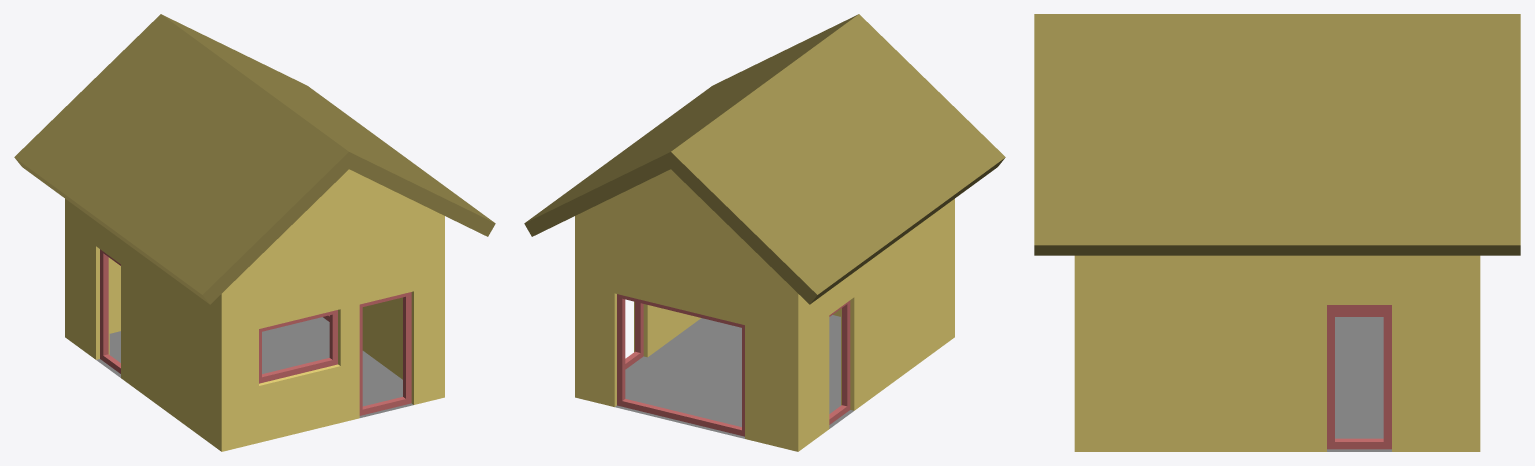
File: result.glb
3 renders of one model, left to right at view 1: azimuth 30°, elevation 25°; view 2: azimuth 150°, elevation 25°; view 3: azimuth 270°, elevation 25°, orthographic. The views are drawn at different scales.
Visible parts, largest first — view 1: 236d482a-bdd8-4c83-88a8-8577ee374dab__undefined, 9b76a80e-5f9a-4ea4-ab52-5e3fb823ff88__undefined (×2), 8d45dc4c-beab-489a-9236-10184ad6e6e9__Plane_6, f8738733-384a-42fb-95f2-5e87470b24df__Box, d81e5ac7-d323-4727-8da7-6ff93179fa96__Box_3, 74276a74-81c3-41e0-b2f2-053fb48610ef__Box_12; view 2: 9b76a80e-5f9a-4ea4-ab52-5e3fb823ff88__undefined (×2), 236d482a-bdd8-4c83-88a8-8577ee374dab__undefined, 8d45dc4c-beab-489a-9236-10184ad6e6e9__Plane_6, e385fa19-a43d-4c6e-b453-f2372cd0e030__Box_9, 74276a74-81c3-41e0-b2f2-053fb48610ef__Box_12, c471a7e7-27ce-494b-b389-1ff43be07774__Box_15; view 3: 9b76a80e-5f9a-4ea4-ab52-5e3fb823ff88__undefined, 236d482a-bdd8-4c83-88a8-8577ee374dab__undefined, 8d45dc4c-beab-489a-9236-10184ad6e6e9__Plane_6, c471a7e7-27ce-494b-b389-1ff43be07774__Box_15.
Part boxes in pixels (bbox=[...]): 236d482a-bdd8-4c83-88a8-8577ee374dab__undefined: bbox=[65, 169, 444, 451]; 9b76a80e-5f9a-4ea4-ab52-5e3fb823ff88__undefined (×2): bbox=[14, 14, 495, 304]; 8d45dc4c-beab-489a-9236-10184ad6e6e9__Plane_6: bbox=[96, 317, 413, 417]; f8738733-384a-42fb-95f2-5e87470b24df__Box: bbox=[359, 292, 411, 415]; d81e5ac7-d323-4727-8da7-6ff93179fa96__Box_3: bbox=[259, 310, 337, 383]; 74276a74-81c3-41e0-b2f2-053fb48610ef__Box_12: bbox=[100, 249, 120, 373]; 9b76a80e-5f9a-4ea4-ab52-5e3fb823ff88__undefined (×2): bbox=[524, 14, 1005, 304]; 236d482a-bdd8-4c83-88a8-8577ee374dab__undefined: bbox=[575, 169, 954, 451]; 8d45dc4c-beab-489a-9236-10184ad6e6e9__Plane_6: bbox=[615, 315, 853, 438]; e385fa19-a43d-4c6e-b453-f2372cd0e030__Box_9: bbox=[617, 294, 744, 436]; 74276a74-81c3-41e0-b2f2-053fb48610ef__Box_12: bbox=[829, 300, 850, 424]; c471a7e7-27ce-494b-b389-1ff43be07774__Box_15: bbox=[625, 302, 643, 369]; 9b76a80e-5f9a-4ea4-ab52-5e3fb823ff88__undefined: bbox=[1034, 14, 1520, 255]; 236d482a-bdd8-4c83-88a8-8577ee374dab__undefined: bbox=[1074, 255, 1480, 451]; 8d45dc4c-beab-489a-9236-10184ad6e6e9__Plane_6: bbox=[1327, 317, 1391, 451]; c471a7e7-27ce-494b-b389-1ff43be07774__Box_15: bbox=[1327, 305, 1391, 449].
Size of the model in its own units: 540 by 500 by 600.
